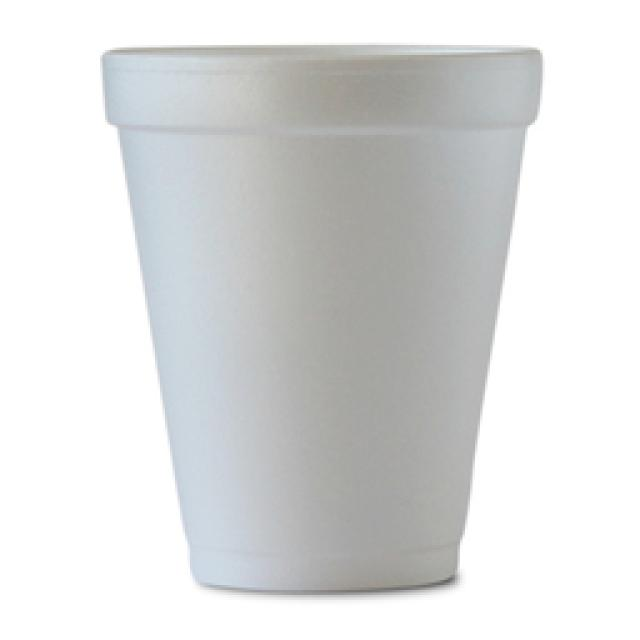styrofoam: (102, 48, 540, 590)
